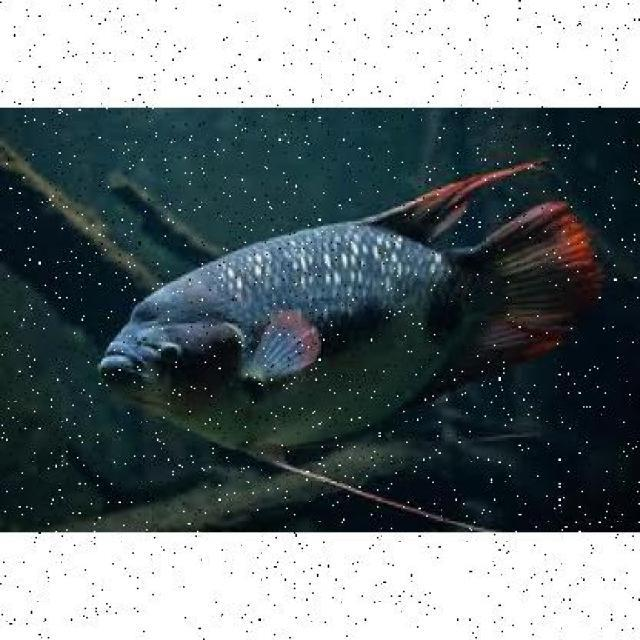gurame: (97, 198, 574, 442)
